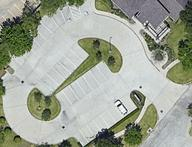parkingspot: (2, 5, 76, 74), (71, 93, 139, 147), (33, 41, 91, 100), (54, 59, 116, 113), (0, 0, 41, 47), (77, 0, 94, 18)
